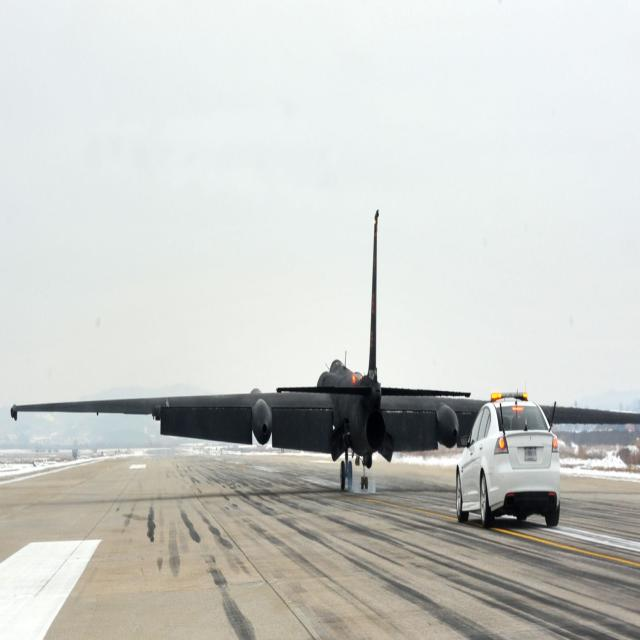MIL_Plane: (9, 206, 640, 490)
